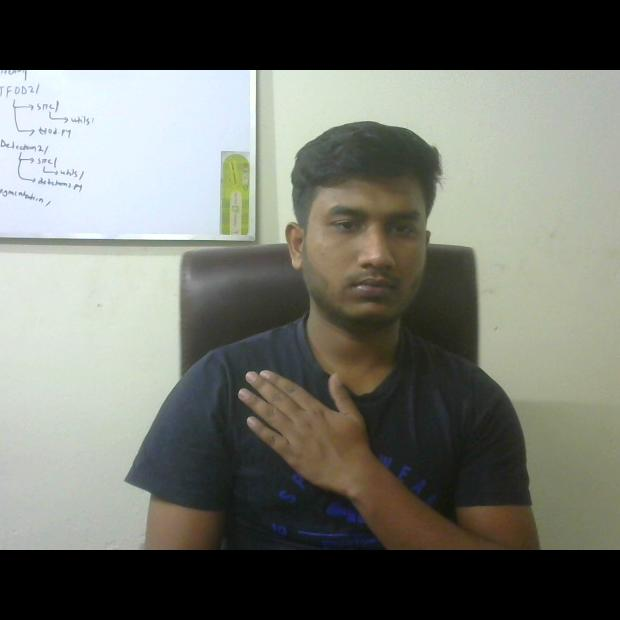C: (218, 351, 409, 508)
